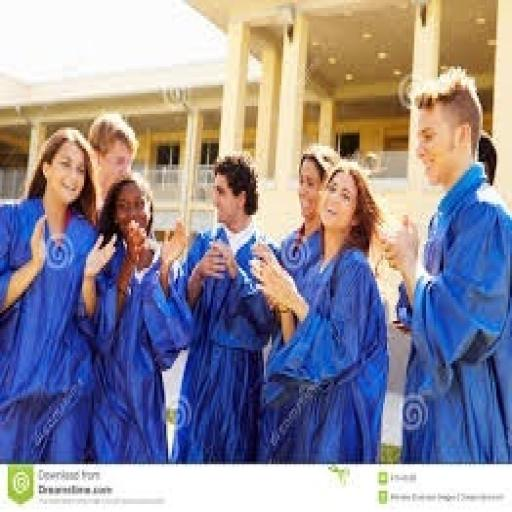clapping: (381, 64, 510, 464), (248, 157, 391, 464), (0, 124, 113, 464), (168, 151, 280, 462), (80, 172, 192, 464)
